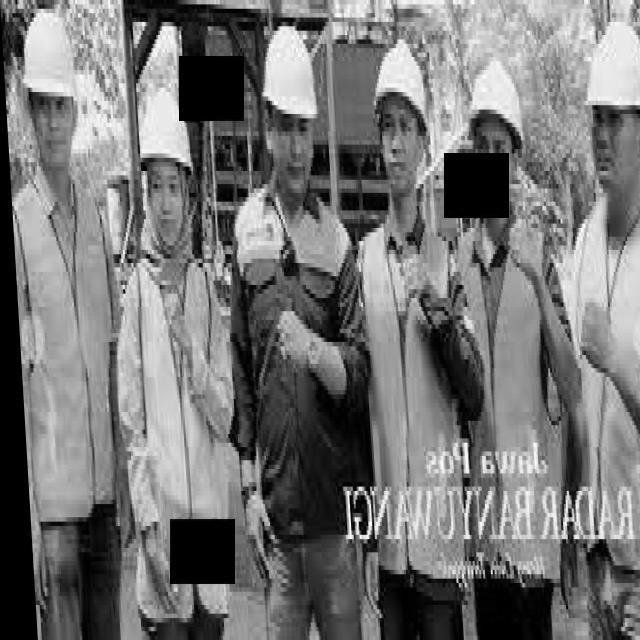safety_helmet: (372, 39, 435, 159), (261, 24, 319, 119), (373, 39, 429, 131), (468, 58, 524, 149), (21, 10, 78, 98), (584, 20, 639, 109), (136, 87, 193, 168)
